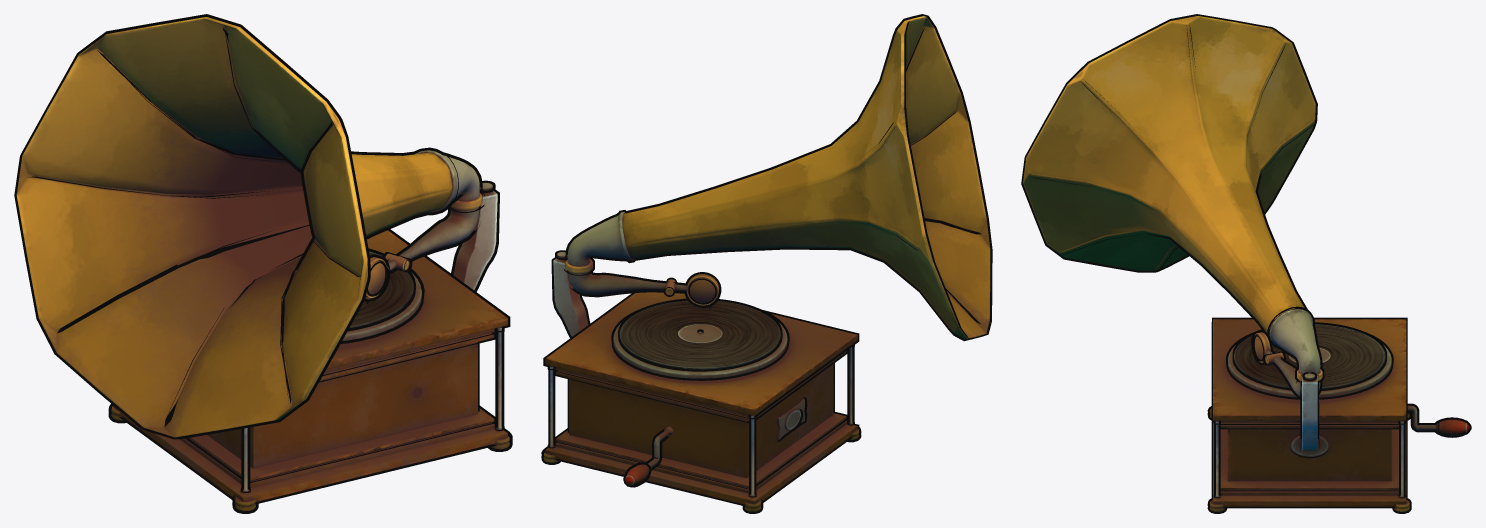
The picture shows the model from 3 angles, left to right: view 1: azimuth 30°, elevation 25°; view 2: azimuth 150°, elevation 25°; view 3: azimuth 270°, elevation 25°; orthographic projection. The views are drawn at different scales.
Parts seen in each view (by area): view 1: pCube2, pCube2.001; view 2: pCube2, pCube2.001; view 3: pCube2, pCube2.001.
Part boxes in pixels (x1,y1,x2,y2): pCube2: [16, 17, 509, 511]; pCube2.001: [14, 14, 512, 513]; pCube2: [543, 16, 990, 511]; pCube2.001: [541, 14, 992, 513]; pCube2: [1023, 16, 1409, 511]; pCube2.001: [1021, 14, 1471, 513].
Size of the model in its own units: 2.81 by 2.86 by 3.03.
Materials: 2 (1 with a texture image).
